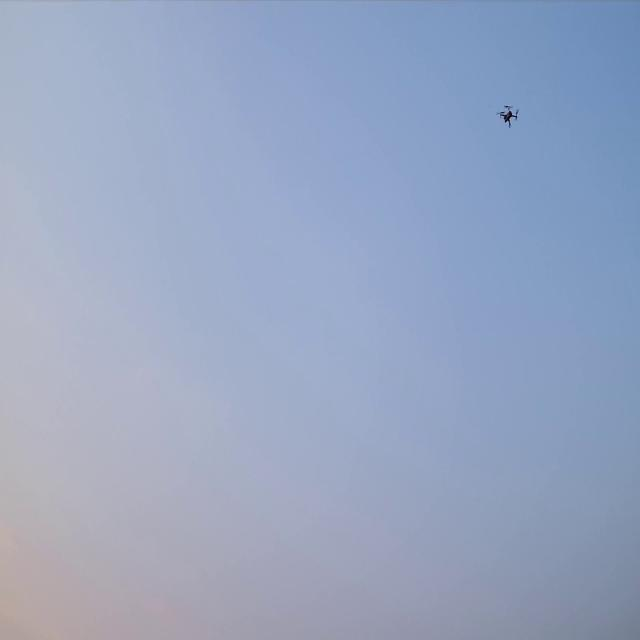UAV: (500, 106, 517, 127)
